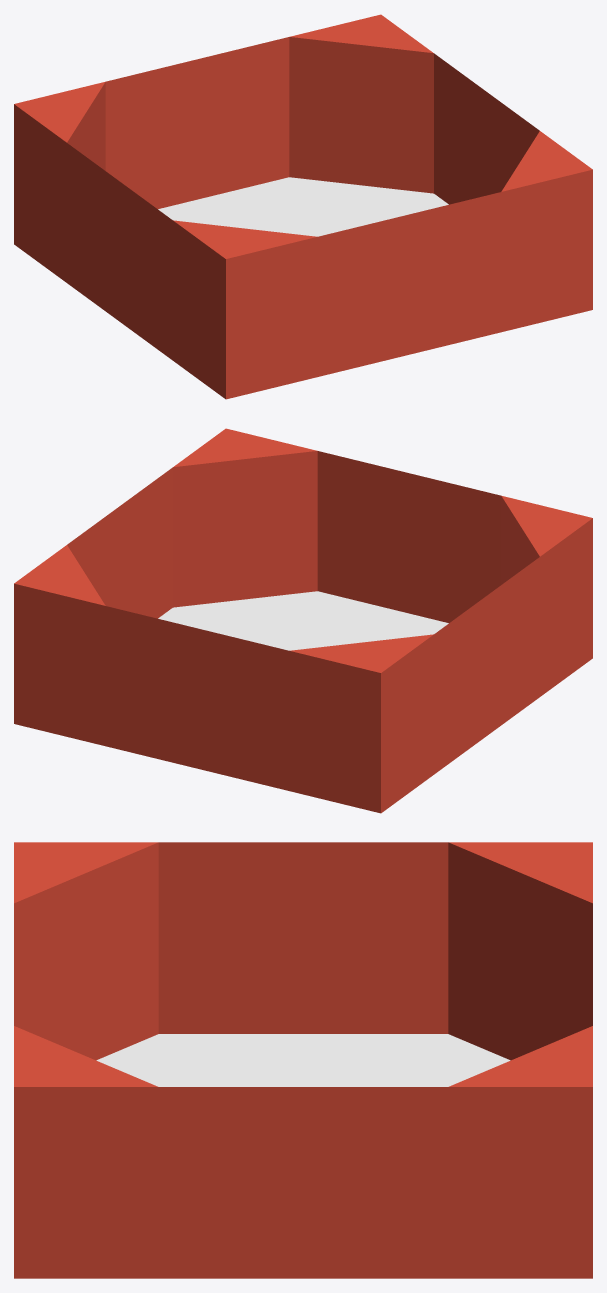
Rendered from room02.fbx.
The picture shows the model from 3 angles, top to bottom: view 1: azimuth 30°, elevation 25°; view 2: azimuth 150°, elevation 25°; view 3: azimuth 270°, elevation 25°; orthographic projection. The views are drawn at different scales.
Visible parts, largest first — view 1: 평면.001; view 2: 평면.001; view 3: 평면.001.
Boxes of the visible parts, x1,y1,x2,y2 form: 평면.001: [14, 14, 592, 399]; 평면.001: [14, 428, 592, 813]; 평면.001: [14, 842, 592, 1278].
Bounding box in the file's own units: 40 × 14.61 × 40.
